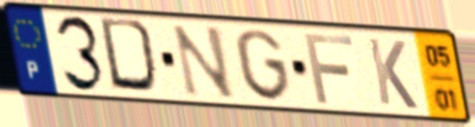3: (49, 13, 105, 94)
D: (96, 15, 165, 98)
F: (301, 31, 357, 107)
G: (232, 27, 294, 104)
K: (364, 35, 421, 113)
N: (169, 23, 239, 102)
